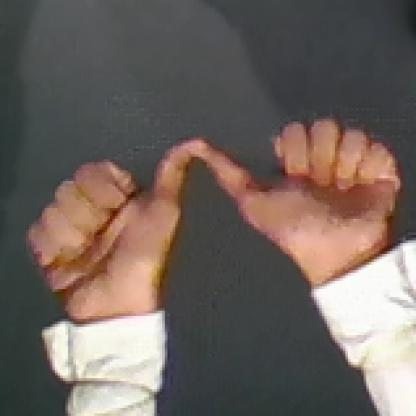A: (8, 108, 414, 305)
